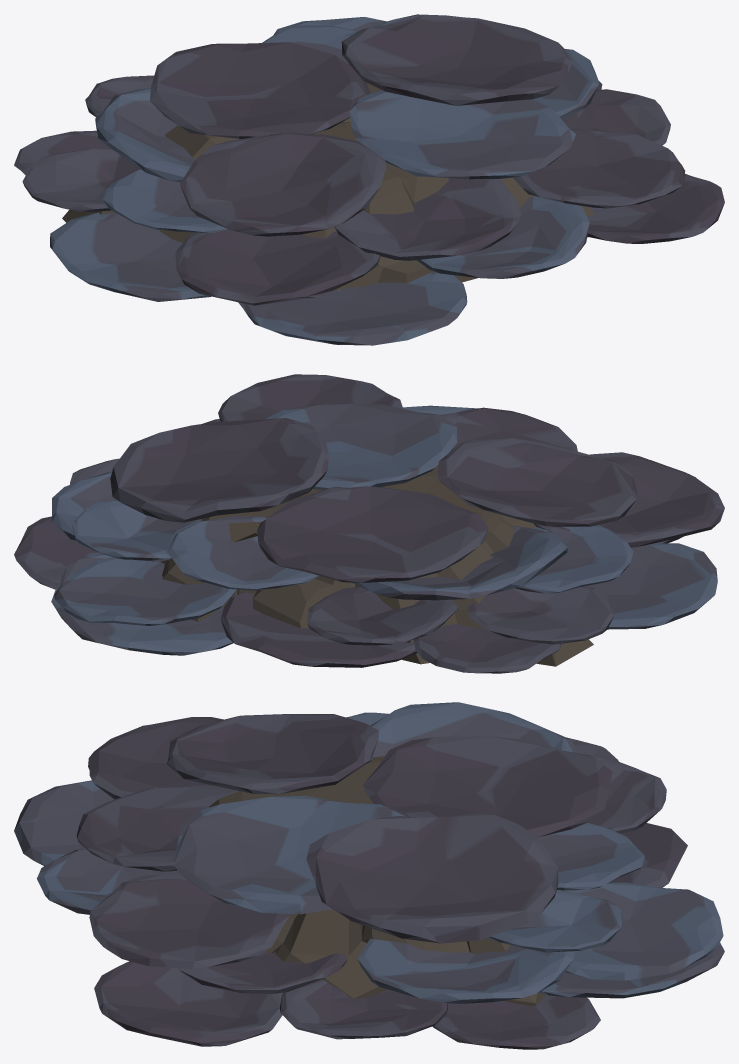
File: SM_Env_Coral_04.fbx
3 views of the same model, one above another, from view 1: azimuth 30°, elevation 25°; view 2: azimuth 150°, elevation 25°; view 3: azimuth 270°, elevation 25° (orthographic). The views are drawn at different scales.
Parts seen in each view (by area): view 1: SM_Env_Coral_04; view 2: SM_Env_Coral_04; view 3: SM_Env_Coral_04.
Part boxes in pixels (x1=…): SM_Env_Coral_04: x1=14, y1=14, x2=724, y2=345; SM_Env_Coral_04: x1=14, y1=374, x2=724, y2=673; SM_Env_Coral_04: x1=14, y1=702, x2=724, y2=1049.
Bounding box in the file's own units: 734 × 132 × 683.
